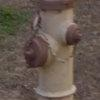Hydrant: (19, 2, 87, 95)
